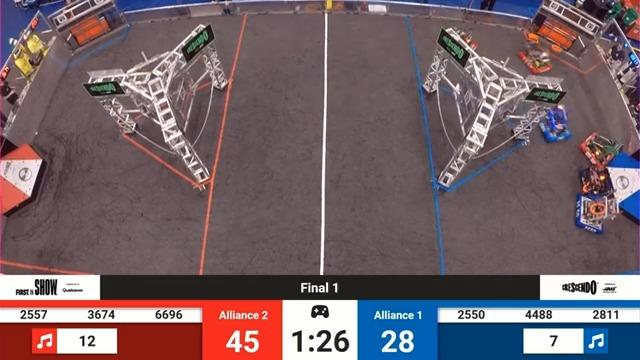robot: (572, 192, 626, 233), (516, 33, 557, 76), (536, 99, 573, 146), (583, 126, 625, 167), (580, 161, 618, 199), (441, 20, 481, 52)
